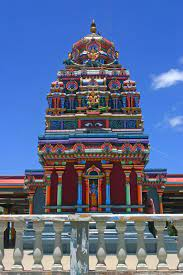Temple: (34, 25, 150, 201)
